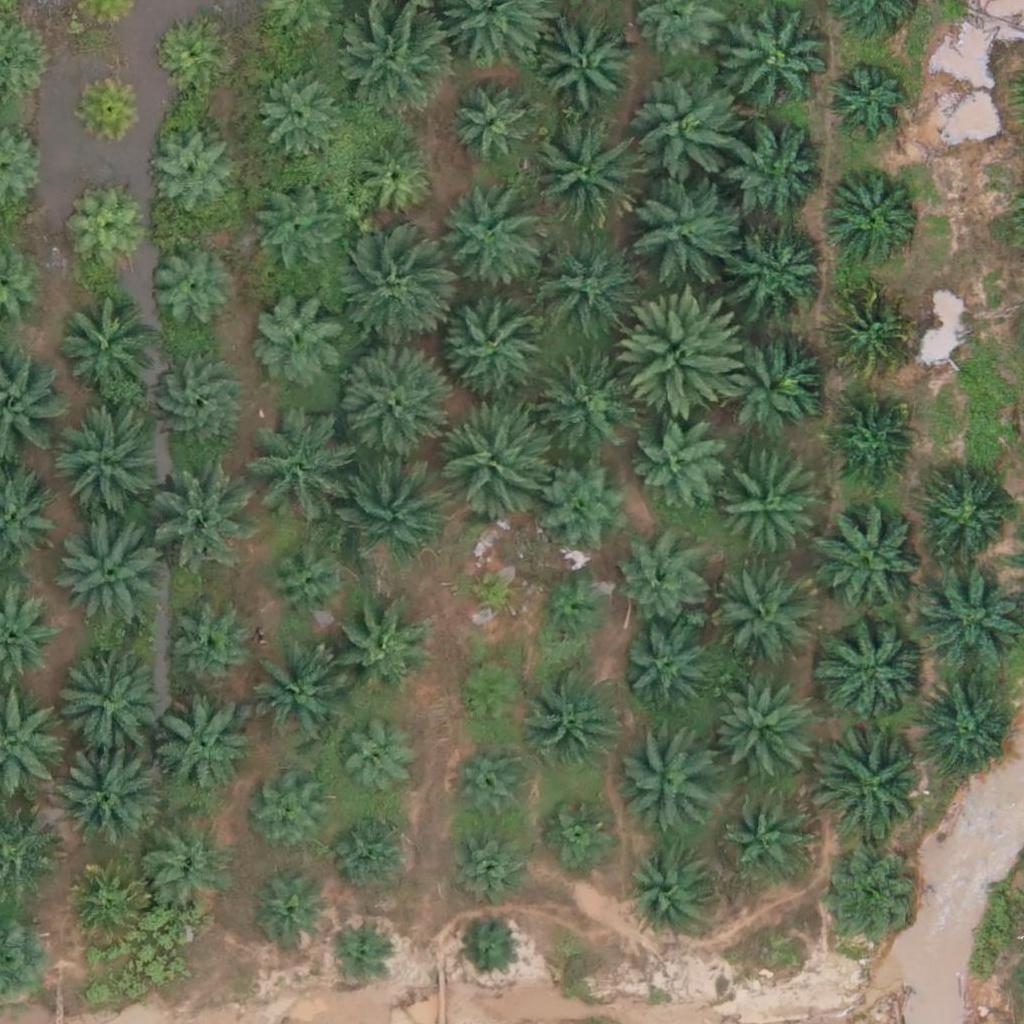Kelapa_Sawit: (622, 292, 747, 418), (624, 170, 737, 284), (48, 513, 161, 627), (814, 502, 927, 615), (818, 613, 931, 726), (526, 118, 639, 231), (530, 230, 643, 343), (437, 285, 550, 398), (334, 346, 447, 459), (53, 740, 166, 853), (45, 644, 158, 757), (718, 1, 831, 114), (341, 3, 454, 116), (631, 76, 744, 189), (334, 448, 446, 562), (51, 409, 163, 523), (817, 725, 929, 838), (430, 186, 542, 299), (435, 403, 547, 516), (332, 237, 444, 350), (145, 454, 257, 567), (912, 679, 1012, 780), (824, 163, 924, 264), (820, 852, 920, 953), (731, 222, 831, 323), (717, 459, 817, 560), (712, 571, 812, 672), (708, 679, 808, 780), (534, 351, 634, 452), (536, 452, 636, 553), (328, 600, 428, 701), (242, 649, 342, 750), (242, 421, 342, 522), (152, 697, 252, 798), (55, 297, 155, 398), (537, 15, 637, 116), (527, 666, 627, 767), (726, 129, 826, 229), (716, 329, 816, 429), (619, 731, 719, 831), (249, 287, 349, 387), (147, 355, 247, 455), (923, 476, 1011, 564), (823, 287, 911, 375), (616, 539, 704, 627), (441, 822, 529, 910), (60, 860, 148, 948), (349, 136, 437, 224), (263, 538, 351, 626), (144, 129, 232, 217), (822, 56, 910, 144), (449, 81, 537, 169), (619, 626, 706, 715), (249, 186, 336, 275), (826, 395, 913, 483), (726, 797, 813, 885), (628, 846, 715, 934), (634, 419, 721, 507), (451, 741, 538, 829), (146, 245, 233, 333), (168, 607, 255, 695), (145, 827, 232, 915), (256, 69, 343, 157), (151, 15, 226, 91), (334, 724, 409, 800), (336, 812, 411, 888), (535, 572, 610, 648), (454, 659, 529, 735), (68, 195, 143, 271), (73, 68, 148, 144), (542, 794, 617, 869), (254, 779, 329, 854), (252, 879, 327, 954), (325, 920, 388, 983), (458, 916, 520, 979), (461, 560, 523, 623)
